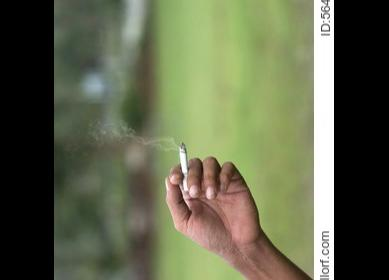Cigarette: (180, 144, 190, 190)
